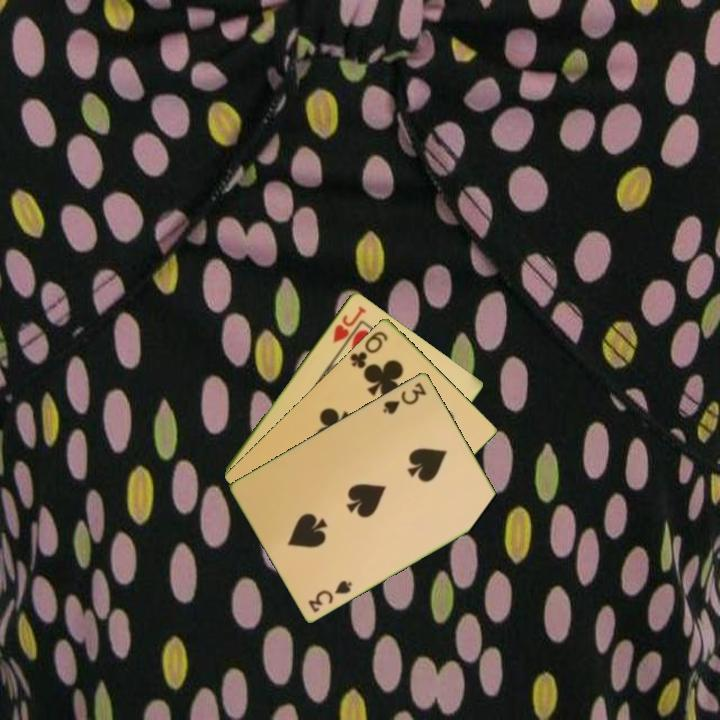3s: (379, 378, 429, 417), (305, 576, 355, 615)
6c: (346, 327, 391, 371)
Jh: (329, 302, 369, 346)
